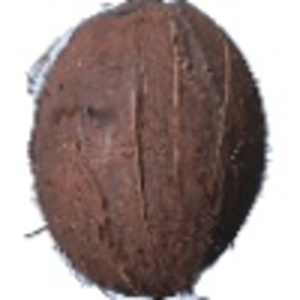coco: (29, 1, 272, 300)
